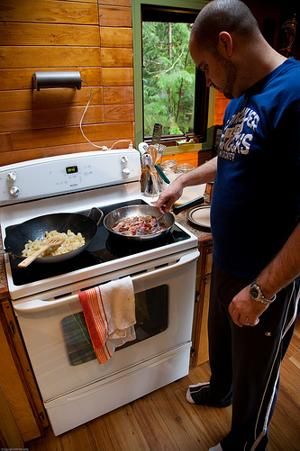person: (153, 3, 300, 451)
